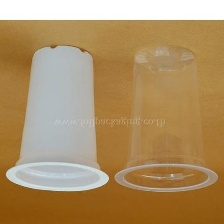glass: (109, 38, 219, 193), (2, 40, 108, 193)
